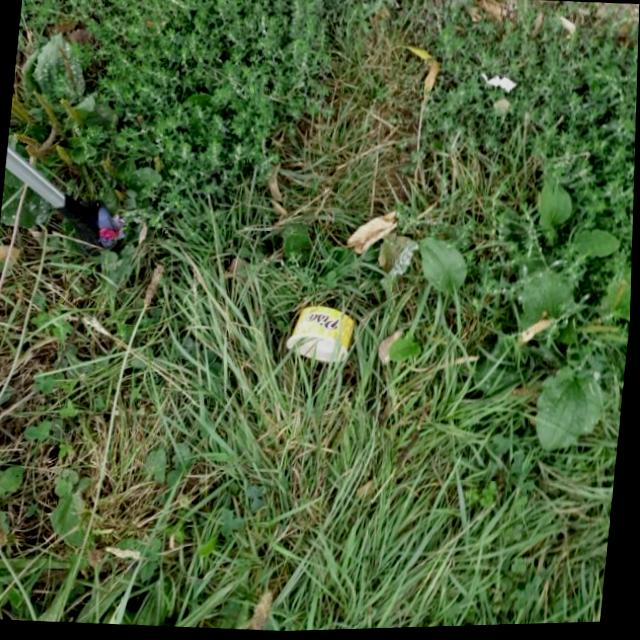Paper: (285, 302, 359, 367)
